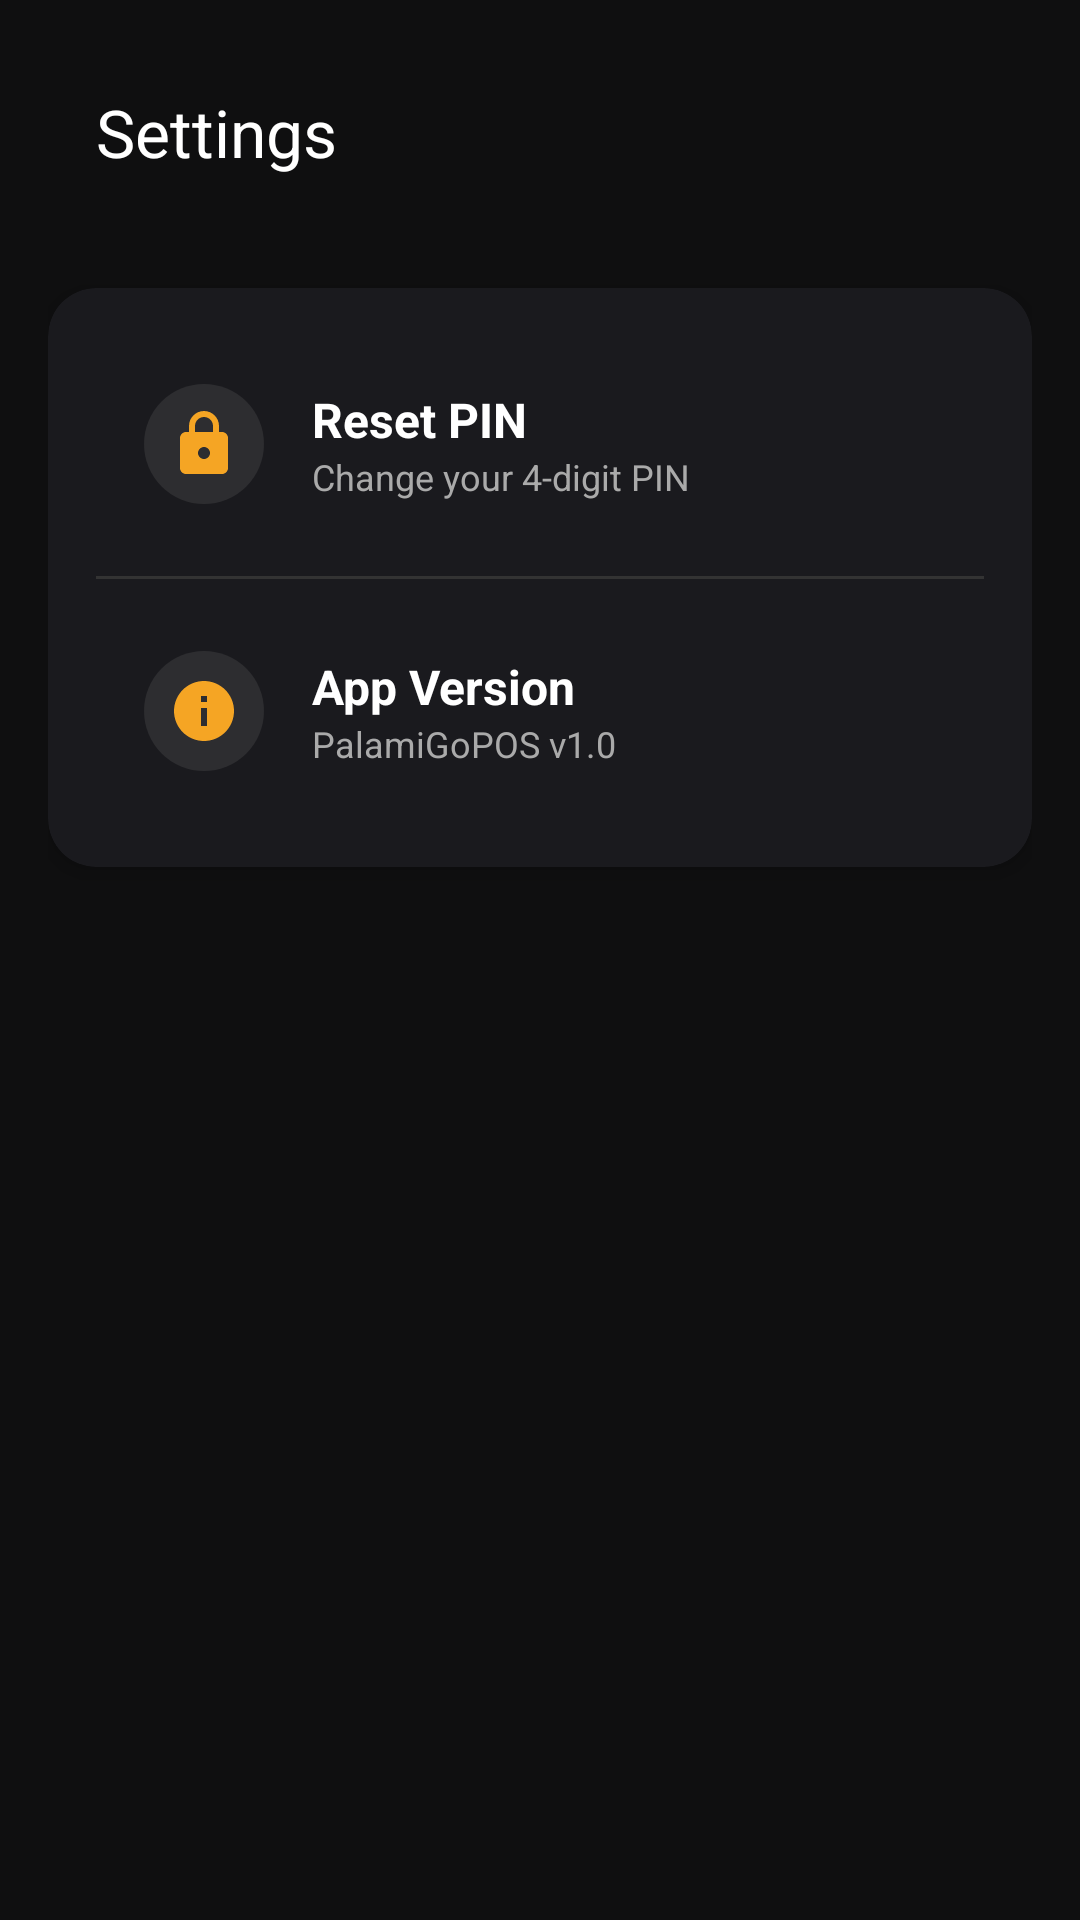

Screen size 1080 x 1920. Icon name, then its box in pixels as (x1, y1, x2, y2):
info: (174, 681, 234, 741)
lock: (180, 411, 228, 474)
